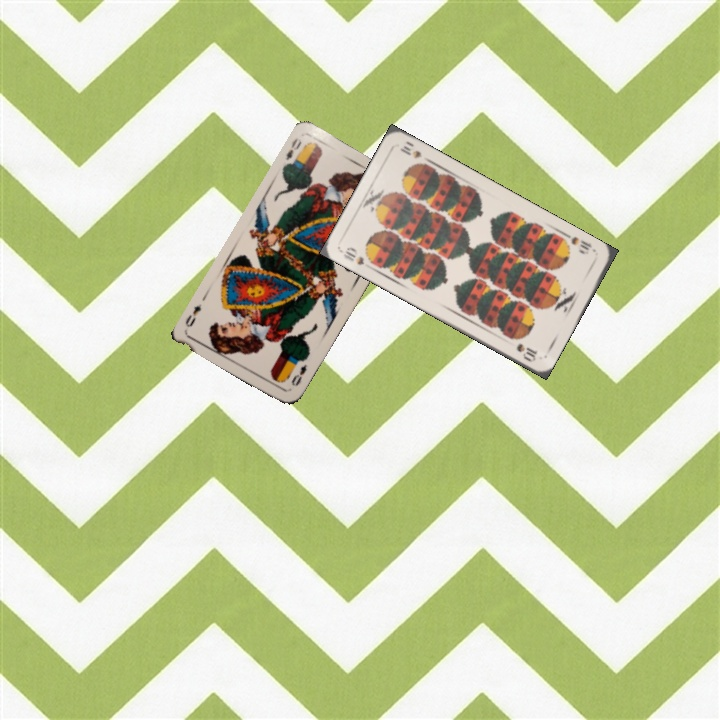EO: (287, 360, 309, 389), (282, 135, 304, 163)
S10: (567, 232, 599, 255), (339, 243, 367, 268)
